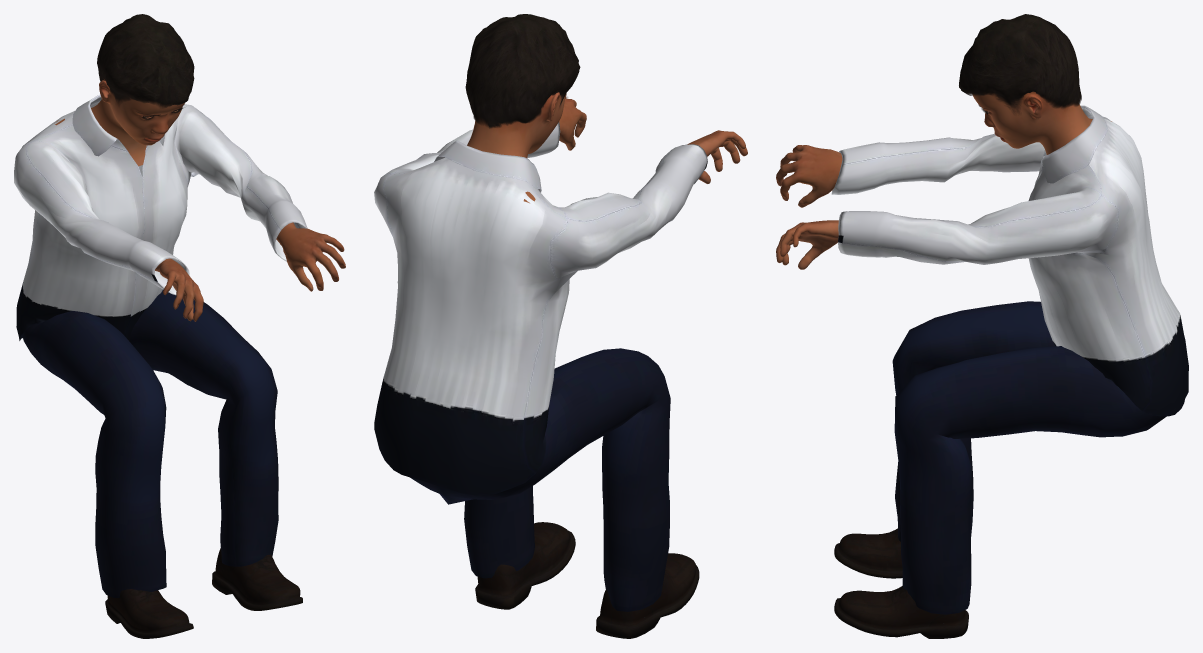
File: b1_sit_build.glb
3 views of the same model, side by side, from view 1: azimuth 30°, elevation 25°; view 2: azimuth 150°, elevation 25°; view 3: azimuth 270°, elevation 25° (orthographic). The views are drawn at different scales.
Parts seen in each view (by area): view 1: b1.male_casualsuit03, b1, b1.short02, b1.shoes01; view 2: b1.male_casualsuit03, b1.short02, b1.shoes01, b1; view 3: b1.male_casualsuit03, b1, b1.short02, b1.shoes01.
Boxes of the visible parts, x1,y1,x2,y2 form: b1.male_casualsuit03: (14, 94, 307, 597); b1: (54, 79, 345, 321); b1.short02: (97, 14, 194, 108); b1.shoes01: (105, 548, 302, 638); b1.male_casualsuit03: (374, 121, 707, 611); b1.short02: (465, 14, 580, 128); b1.shoes01: (475, 522, 699, 638); b1: (467, 92, 747, 203); b1.male_casualsuit03: (831, 105, 1188, 614); b1: (776, 91, 1111, 269); b1.short02: (959, 14, 1081, 114); b1.shoes01: (834, 528, 968, 638).
Bounding box in the file's own units: 0.4519 × 1.15 × 0.7385.
7 materials, 7 textured.
